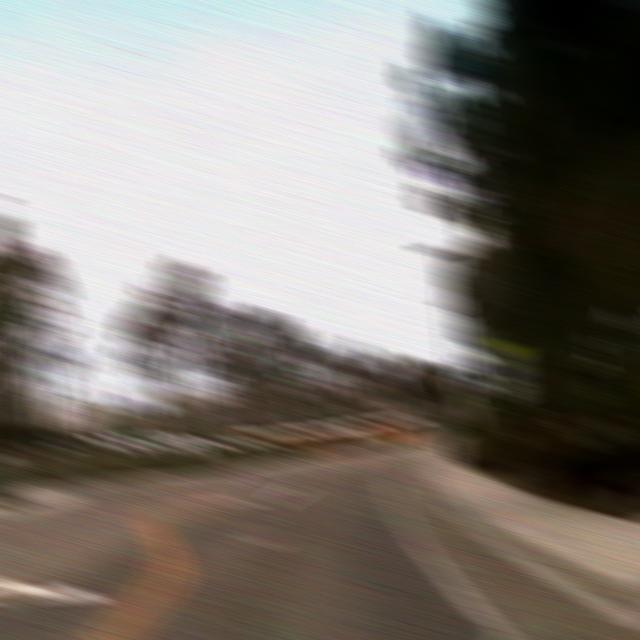speedLimit25: (491, 338, 530, 402)
